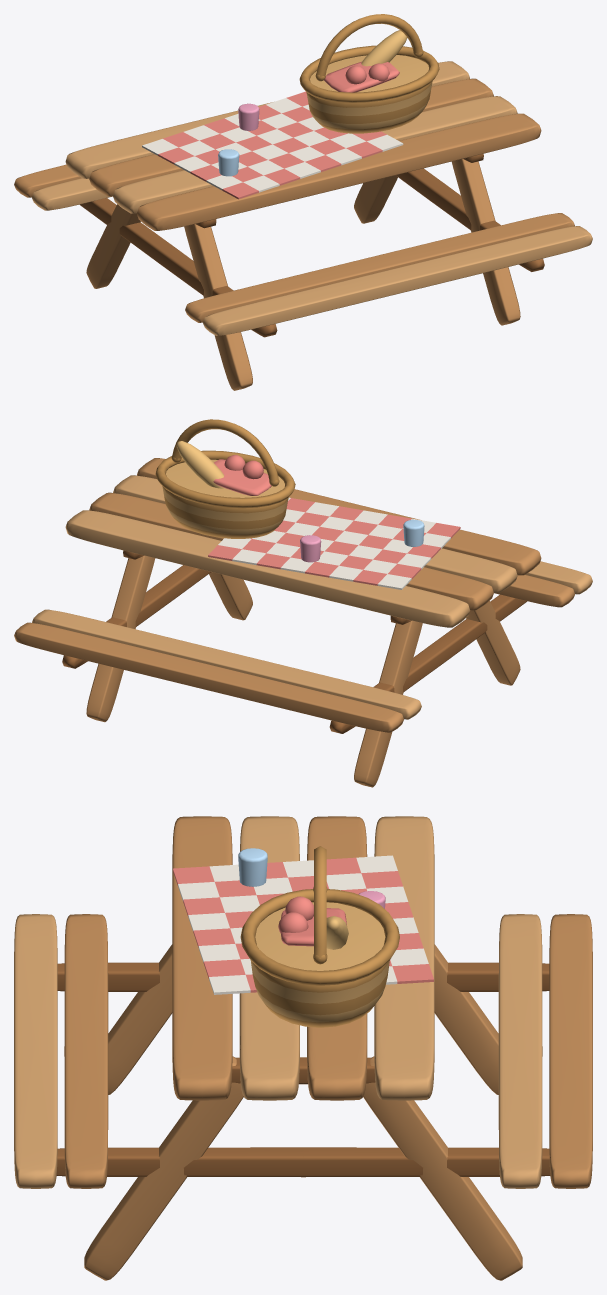
The model's file is picnic_table.glb.
The picture shows the model from 3 angles, top to bottom: view 1: azimuth 30°, elevation 25°; view 2: azimuth 150°, elevation 25°; view 3: azimuth 270°, elevation 25°; orthographic projection. The views are drawn at different scales.
Parts seen in each view (by area): view 1: picnic_table; view 2: picnic_table; view 3: picnic_table.
Part boxes in pixels (x1,y1,x2,y2): picnic_table: [14, 14, 592, 390]; picnic_table: [14, 419, 592, 787]; picnic_table: [14, 816, 592, 1280].
Size of the model in its own units: 1.9 by 1.25 by 1.72.
1 material, 1 textured.
